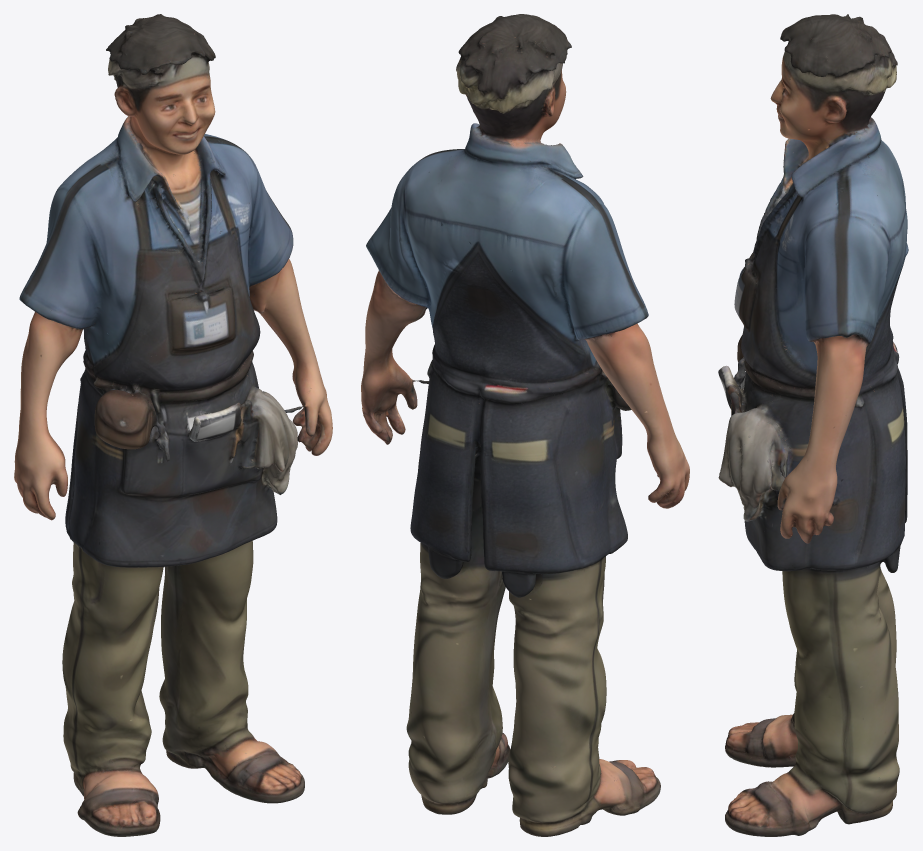
Rendered from Meshy_AI_Handyman_in_Apron_0624005507_texture.fbx.
3 views of the same model, side by side, from view 1: azimuth 30°, elevation 25°; view 2: azimuth 150°, elevation 25°; view 3: azimuth 270°, elevation 25° (orthographic). The views are drawn at different scales.
Visible parts, largest first — view 1: Mesh_0; view 2: Mesh_0; view 3: Mesh_0.
Boxes of the visible parts, box(x1,y1,x2,y2) form: Mesh_0: box(14, 14, 332, 836); Mesh_0: box(361, 14, 689, 836); Mesh_0: box(718, 14, 908, 836).
Bounding box in the file's own units: 84.07 × 200 × 44.87.
1 material, 1 textured.
